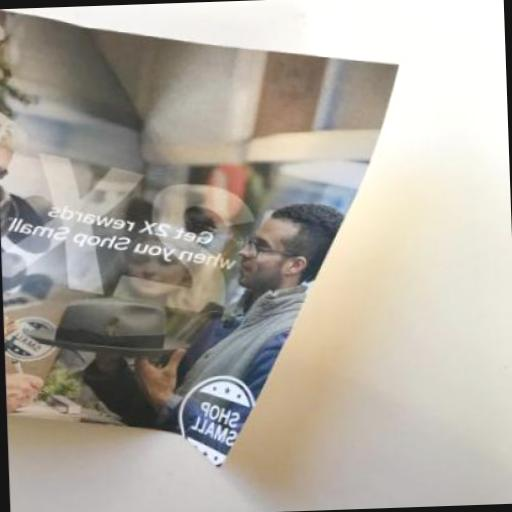paper: (0, 0, 409, 475)
